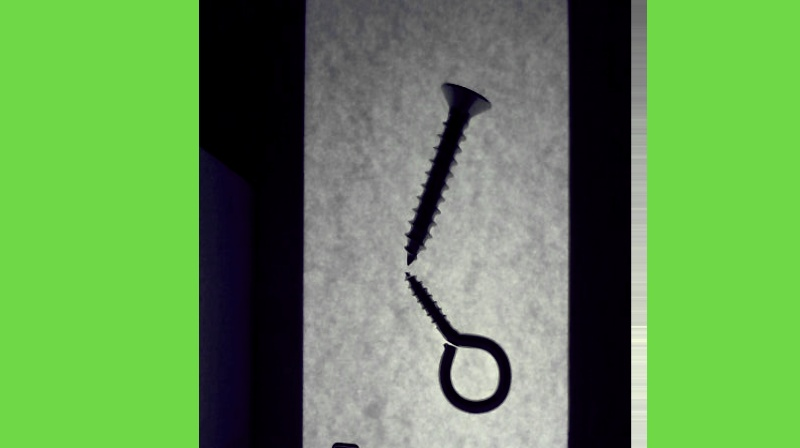O001: (403, 267, 512, 416)
O002: (321, 439, 492, 447)
S001: (405, 80, 494, 265)
